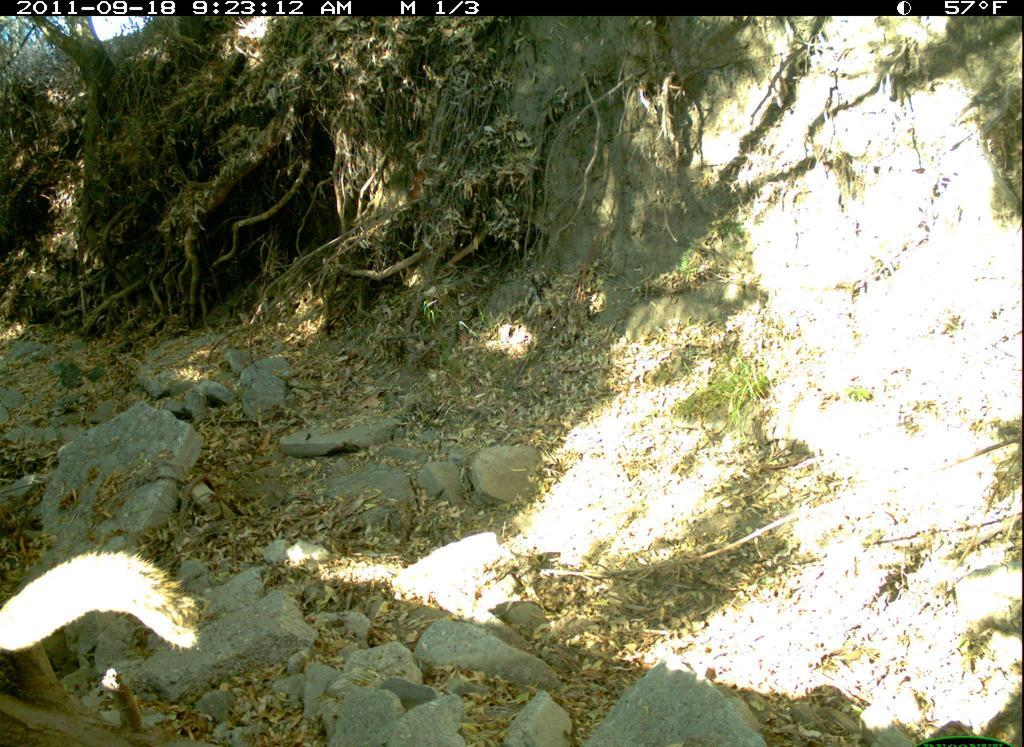squirrel: (1, 545, 199, 687)
